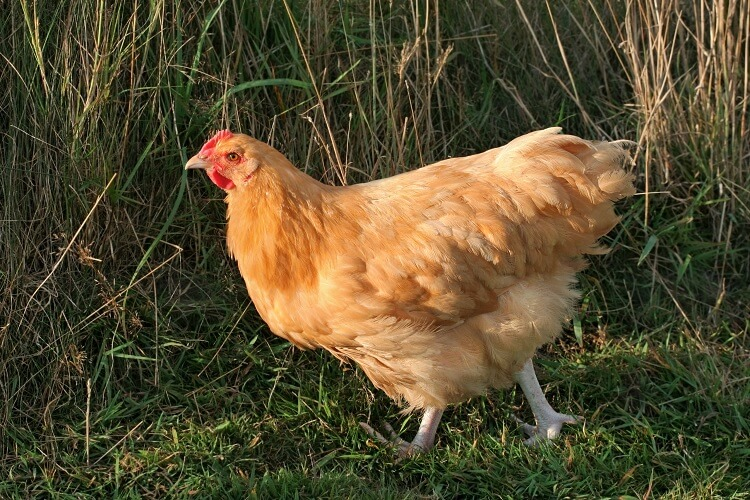buff: (184, 128, 636, 330)
